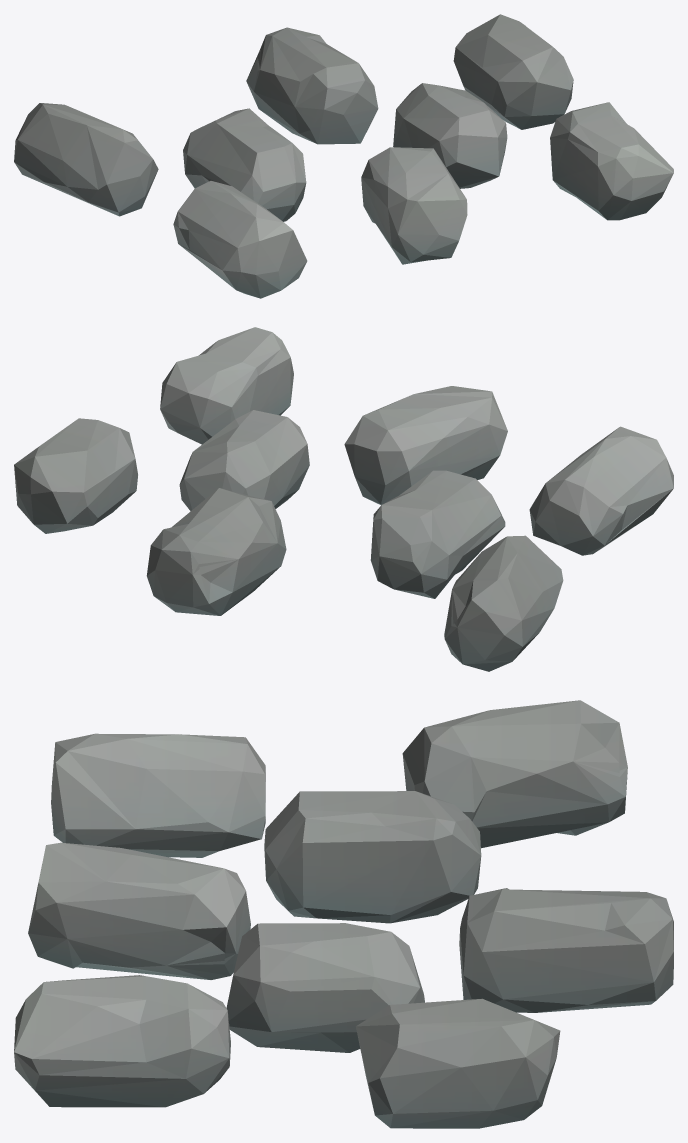
Rendered from Rocks.FBX.
The picture shows the model from 3 angles, top to bottom: view 1: azimuth 30°, elevation 25°; view 2: azimuth 150°, elevation 25°; view 3: azimuth 270°, elevation 25°; orthographic projection. The views are drawn at different scales.
Visible parts, largest first — view 1: Group63368, Group63373, Group63370, Group63372, Group63371, Group24559, Group59848, Group63369; view 2: Group63371, Group63368, Group59848, Group63372, Group63373, Group24559, Group63370, Group63369; view 3: Group63370, Group59848, Group63371, Group63373, Group63368, Group63372, Group24559, Group63369.
Boxes of the visible parts, x1,y1,x2,y2 form: Group63368: (246,27,378,144); Group63373: (14,103,158,216); Group63370: (550,102,673,220); Group63372: (173,181,307,298); Group63371: (361,147,467,264); Group24559: (453,14,573,129); Group59848: (183,108,306,221); Group63369: (393,83,507,188); Group63371: (344,386,507,504); Group63368: (146,488,286,615); Group59848: (370,470,505,598); Group63372: (529,426,673,555); Group63373: (444,535,563,671); Group24559: (14,418,137,533); Group63370: (160,327,293,444); Group63369: (179,410,309,511); Group63370: (14,975,230,1107); Group59848: (264,791,481,923); Group63371: (28,842,250,979); Group63373: (402,700,627,848); Group63368: (459,888,673,1012); Group63372: (51,733,265,857); Group24559: (356,998,560,1128); Group63369: (226,923,424,1052).
Size of the model in its own units: 149 by 25.11 by 120.
